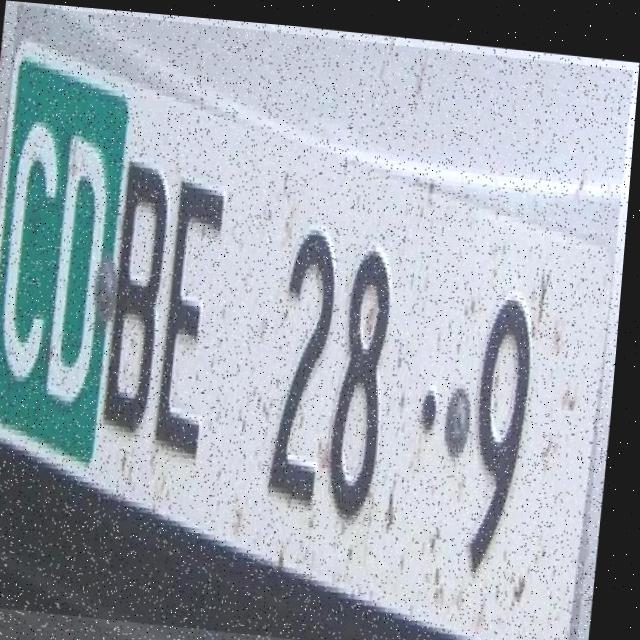LicensePlate: (0, 3, 634, 640)
